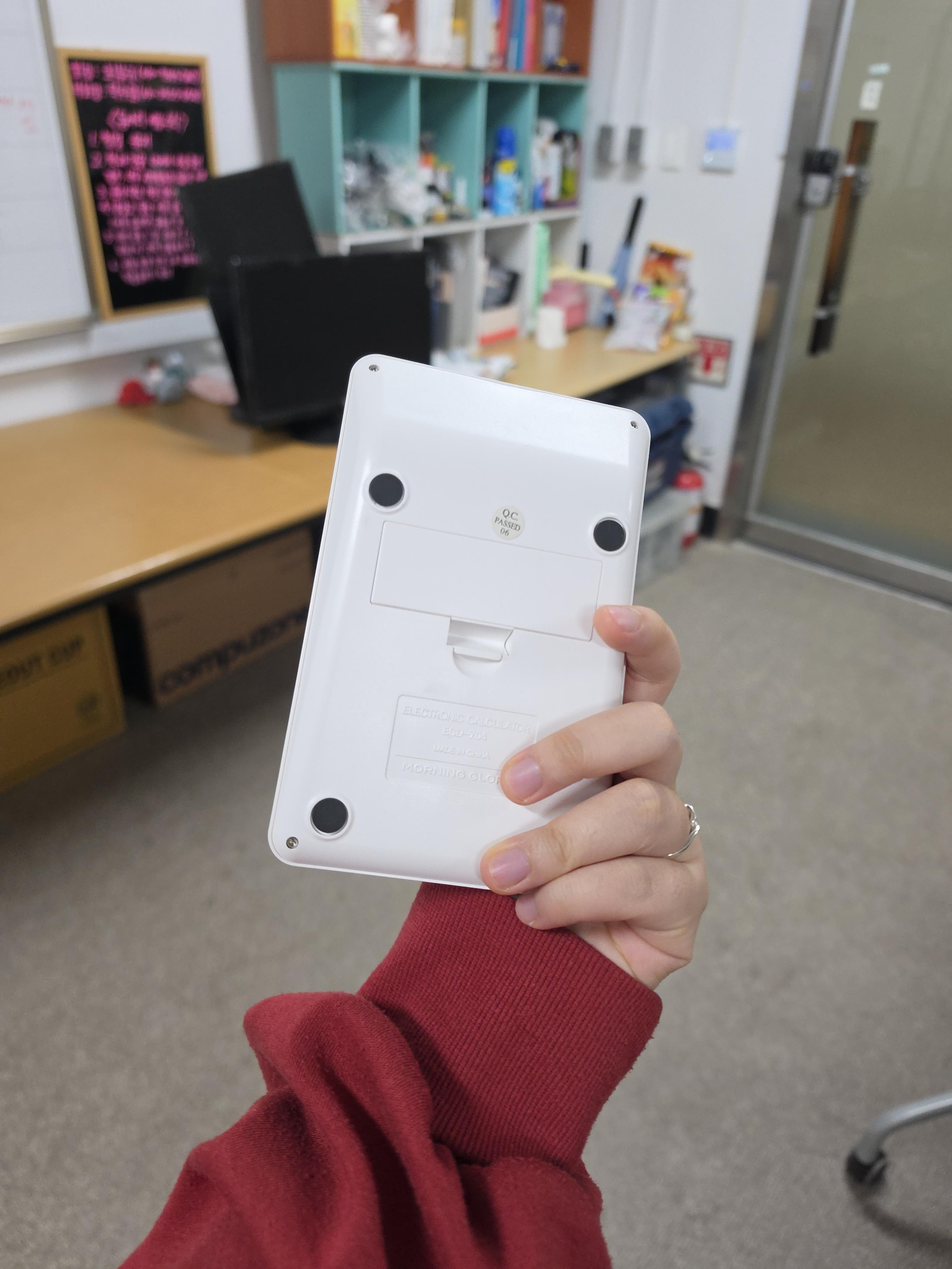calculator: (268, 354, 651, 891)
